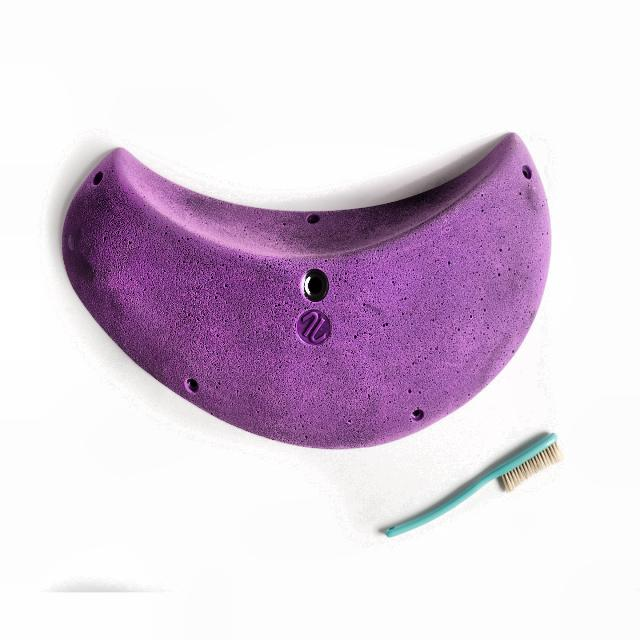Hold: (36, 116, 568, 464)
